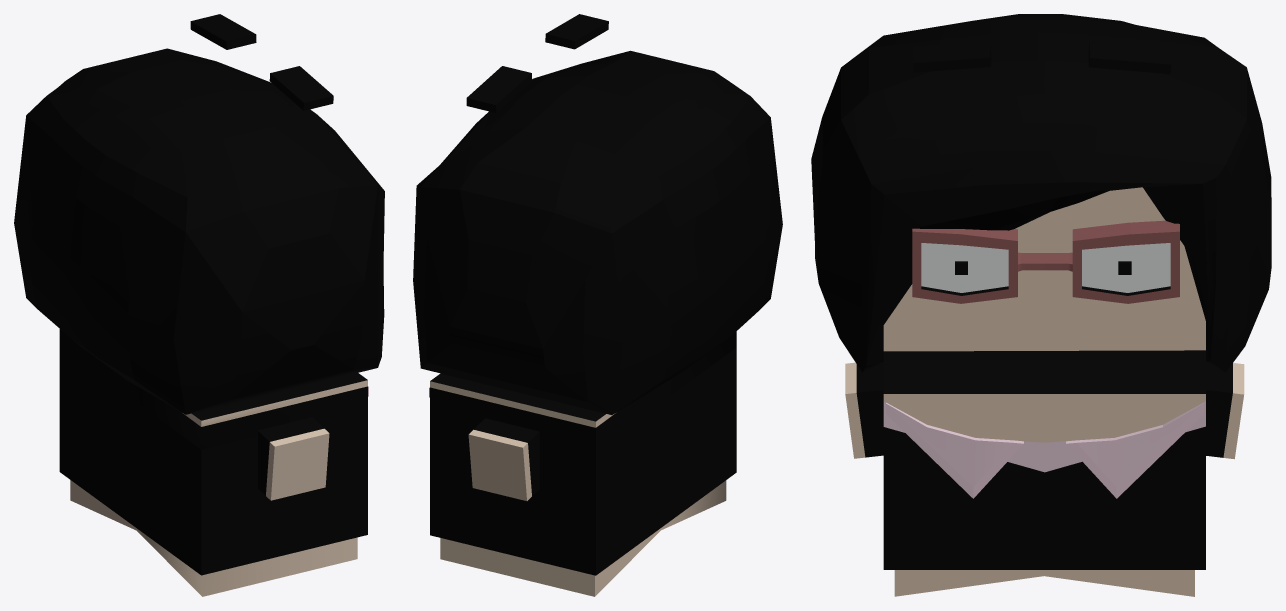
Rendered from Teacher.fbx.
3 views of the same model, side by side, from view 1: azimuth 30°, elevation 25°; view 2: azimuth 150°, elevation 25°; view 3: azimuth 270°, elevation 25° (orthographic). The views are drawn at different scales.
Visible parts, largest first — view 1: Head, Body, L_Arm, L_foot, EyebrowL, EyebrowR, R_foot; view 2: Head, Body, R_Arm, R_foot, EyebrowR, EyebrowL, L_foot; view 3: Head, Body, Glasses, CollarR, CollarL, L_Arm, R_Arm, R_foot, L_foot, EyebrowR, EyebrowL.
Part boxes in pixels (left/top/right/bottom): Head: left=14, top=48, right=384, bottom=414; Body: left=59, top=329, right=367, bottom=575; L_Arm: left=258, top=417, right=329, bottom=500; L_foot: left=136, top=528, right=357, bottom=596; EyebrowL: left=269, top=66, right=333, bottom=110; EyebrowR: left=190, top=14, right=256, bottom=49; R_foot: left=70, top=480, right=136, bottom=530; Head: left=413, top=50, right=782, bottom=414; Body: left=430, top=331, right=736, bottom=575; R_Arm: left=468, top=418, right=539, bottom=500; R_foot: left=440, top=528, right=660, bottom=596; EyebrowR: left=466, top=66, right=531, bottom=112; EyebrowL: left=545, top=14, right=608, bottom=49; L_foot: left=660, top=480, right=726, bottom=530; Head: left=811, top=14, right=1271, bottom=372; Body: left=883, top=350, right=1205, bottom=569; Glasses: left=912, top=220, right=1179, bottom=303; CollarR: left=1066, top=402, right=1204, bottom=498; CollarL: left=886, top=402, right=1023, bottom=498; L_Arm: left=845, top=362, right=883, bottom=458; R_Arm: left=1206, top=362, right=1244, bottom=459; R_foot: left=1044, top=570, right=1194, bottom=596; L_foot: left=894, top=570, right=1044, bottom=596; EyebrowR: left=1088, top=41, right=1171, bottom=74; EyebrowL: left=913, top=41, right=991, bottom=72.
Bounding box in the file's own units: 1 × 1.82 × 1.43.
